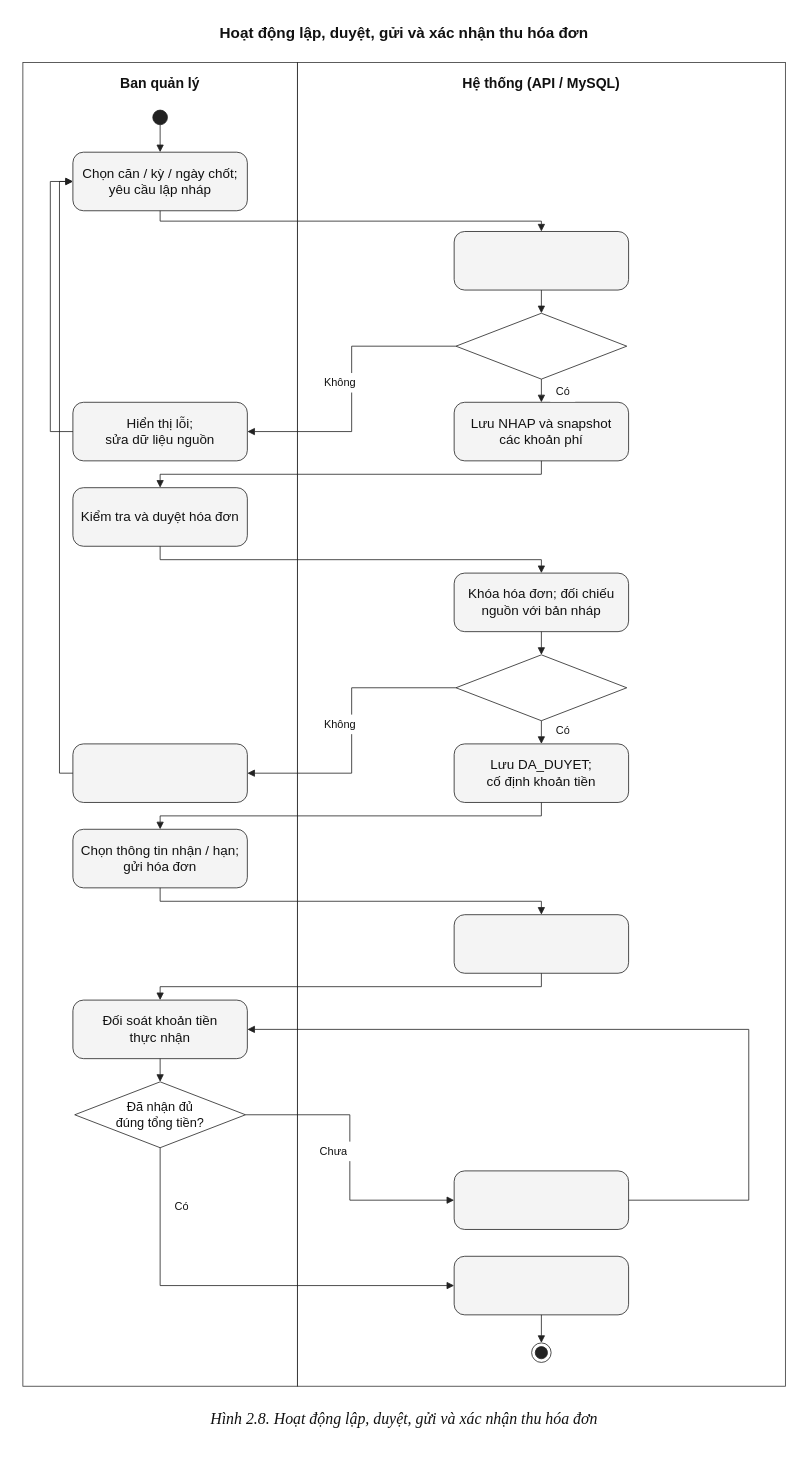
The diagram is 808 pixels wide and 1460 high, and some of its shapes have lost their labels. Here are the shapes that lost their labels. From the top down, the centre of each, then its label:
At point (541, 260): "Kiểm tra đơn giá, xe và chỉ số dịch vụ".
At point (541, 346): "Nguồn dữ liệu hợp lệ?".
At point (541, 687): "Nguồn còn khớp?".
At point (159, 773): "Làm mới / tính lại nháp".
At point (541, 943): "Lưu DA_GUI; cung cấp VietQR".
At point (541, 1200): "Giữ DA_GUI; chờ đối soát tiếp".
At point (541, 1285): "Xác nhận DA_THANH_TOAN; ghi lịch sử thu".
